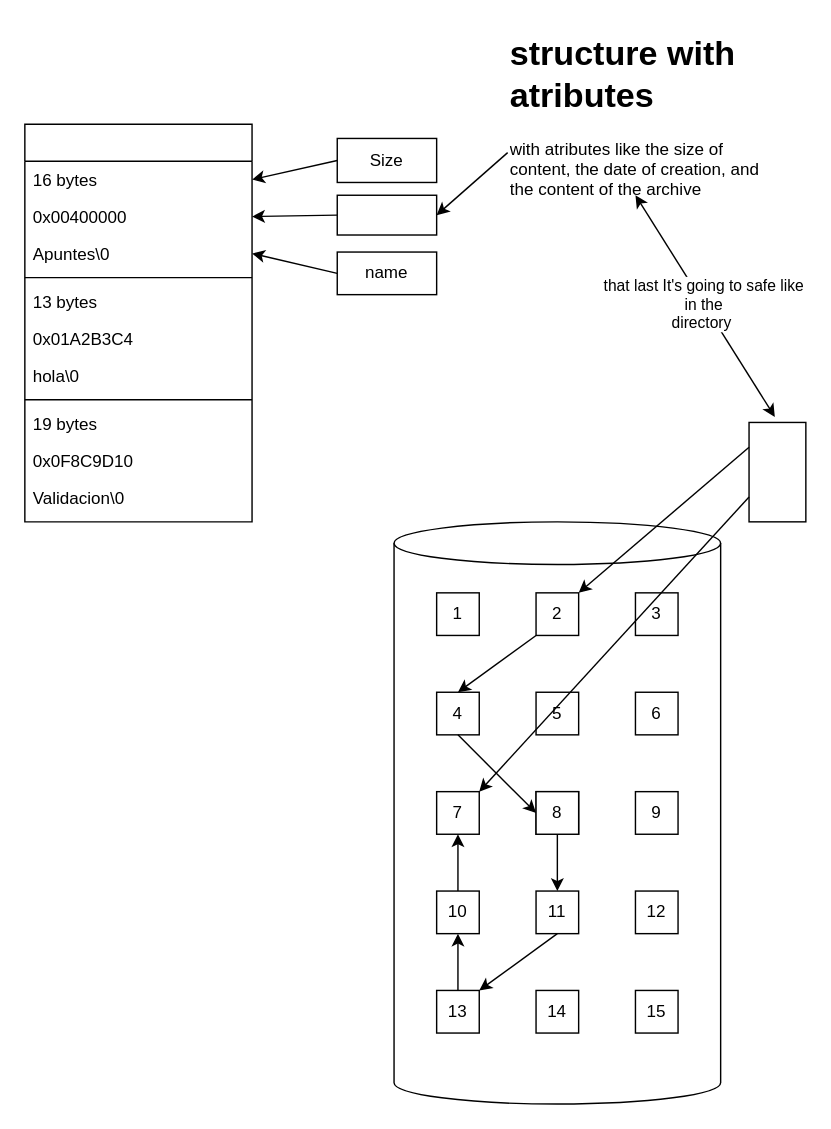
This 831x1129 diagram has some shape labels left out. Each missing label, with the box of its shape:
/home/documents: (23, 123, 252, 522)
pointer: (336, 194, 437, 235)
start 2 end 7: (748, 421, 806, 522)
